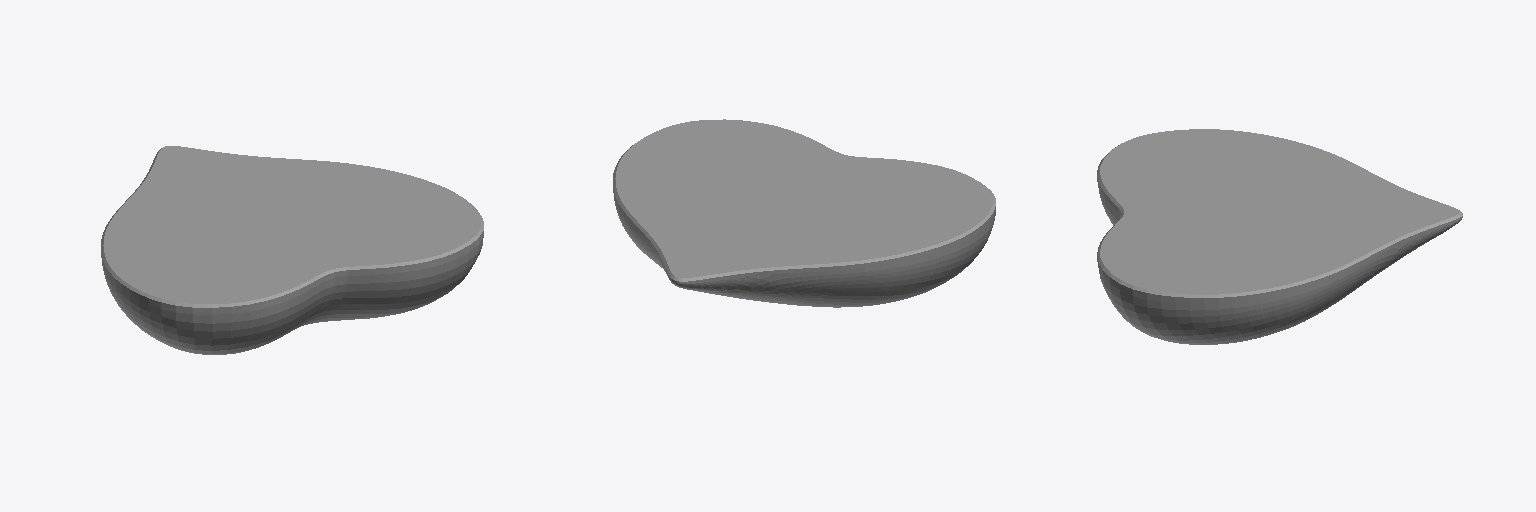
The model's file is heart.obj.
3 views of the same model, side by side, from view 1: azimuth 30°, elevation 25°; view 2: azimuth 150°, elevation 25°; view 3: azimuth 270°, elevation 25° (orthographic).
Visible parts, largest first — view 1: 19335_Heart; view 2: 19335_Heart; view 3: 19335_Heart.
Part boxes in pixels (x1,y1,x2,y2): 19335_Heart: (101, 146, 483, 354); 19335_Heart: (613, 119, 995, 307); 19335_Heart: (1097, 129, 1462, 344).
Size of the model in its own units: 4.01 by 0.9793 by 3.69.